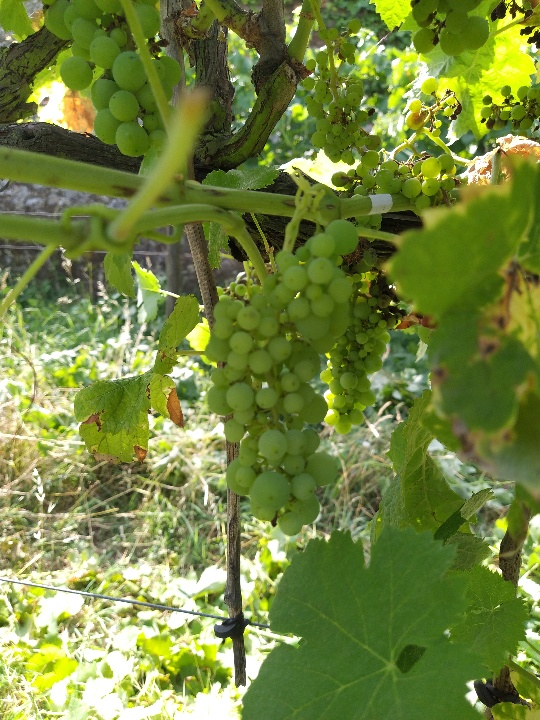grape: (201, 217, 363, 537), (327, 288, 393, 436)
